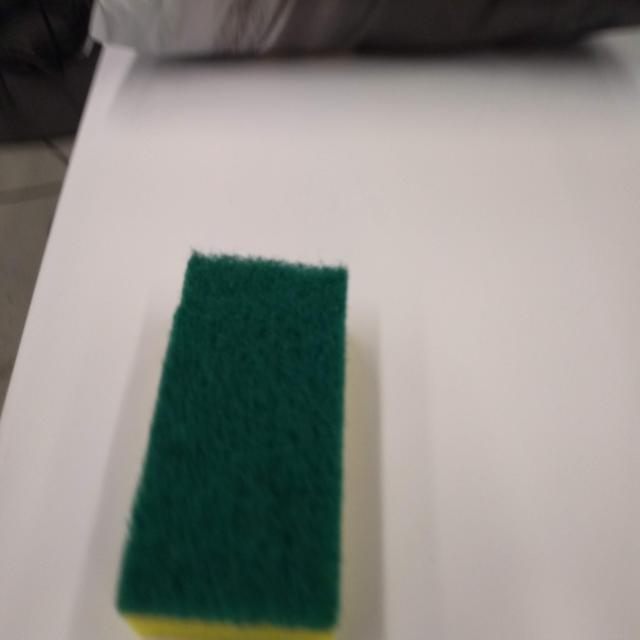scrubby: (110, 235, 361, 640)
